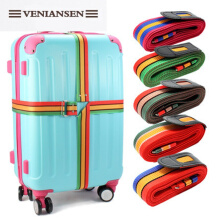luggage: (7, 28, 125, 216)
